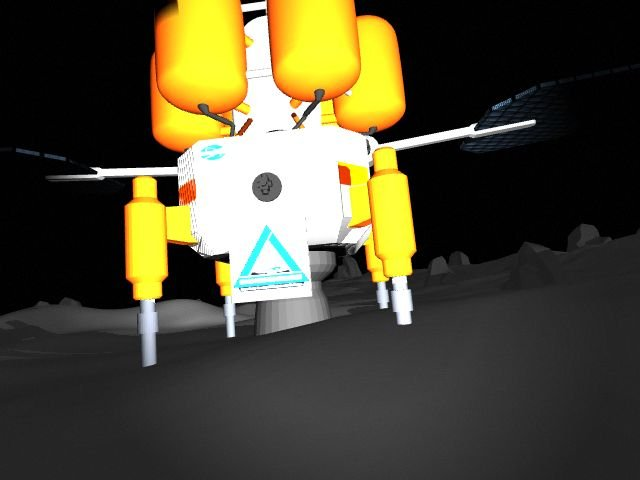basemarker: (234, 224, 310, 293)
